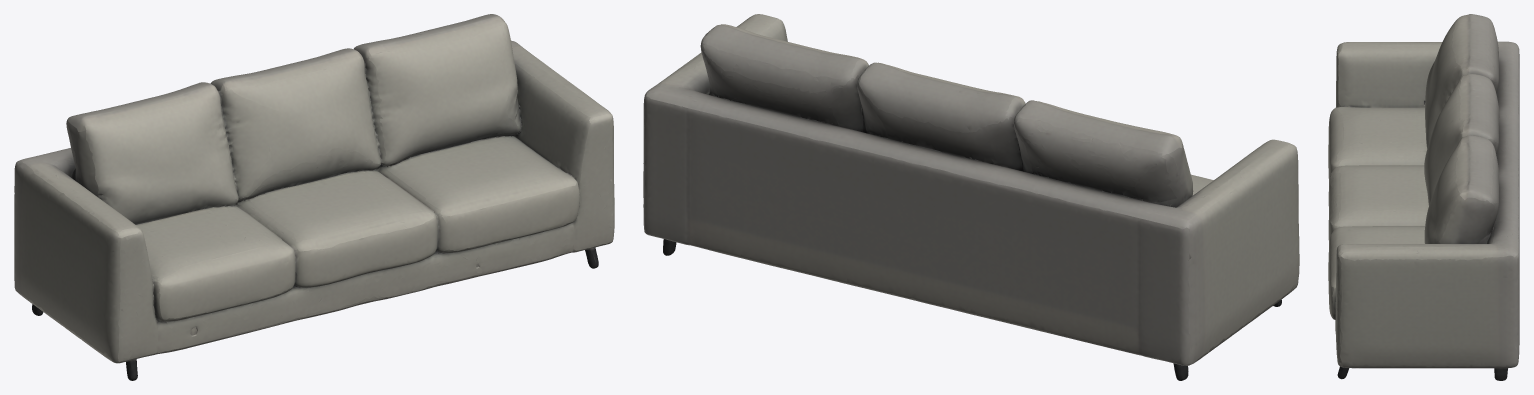
File: item_81395028.glb
3 views of the same model, side by side, from view 1: azimuth 30°, elevation 25°; view 2: azimuth 150°, elevation 25°; view 3: azimuth 270°, elevation 25° (orthographic). The views are drawn at different scales.
Visible parts, largest first — view 1: world; view 2: world; view 3: world.
Part boxes in pixels (x1,y1,x2,y2): world: [14, 14, 614, 380]; world: [643, 14, 1299, 380]; world: [1328, 14, 1519, 380].
Bounding box in the file's own units: 2.2 × 0.8468 × 0.8184.
Materials: 1 (1 with a texture image).
